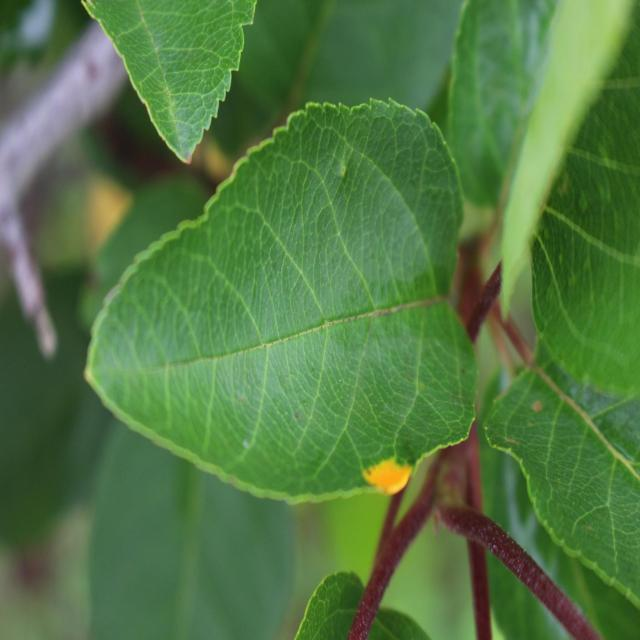Rust: (357, 438, 417, 512)
